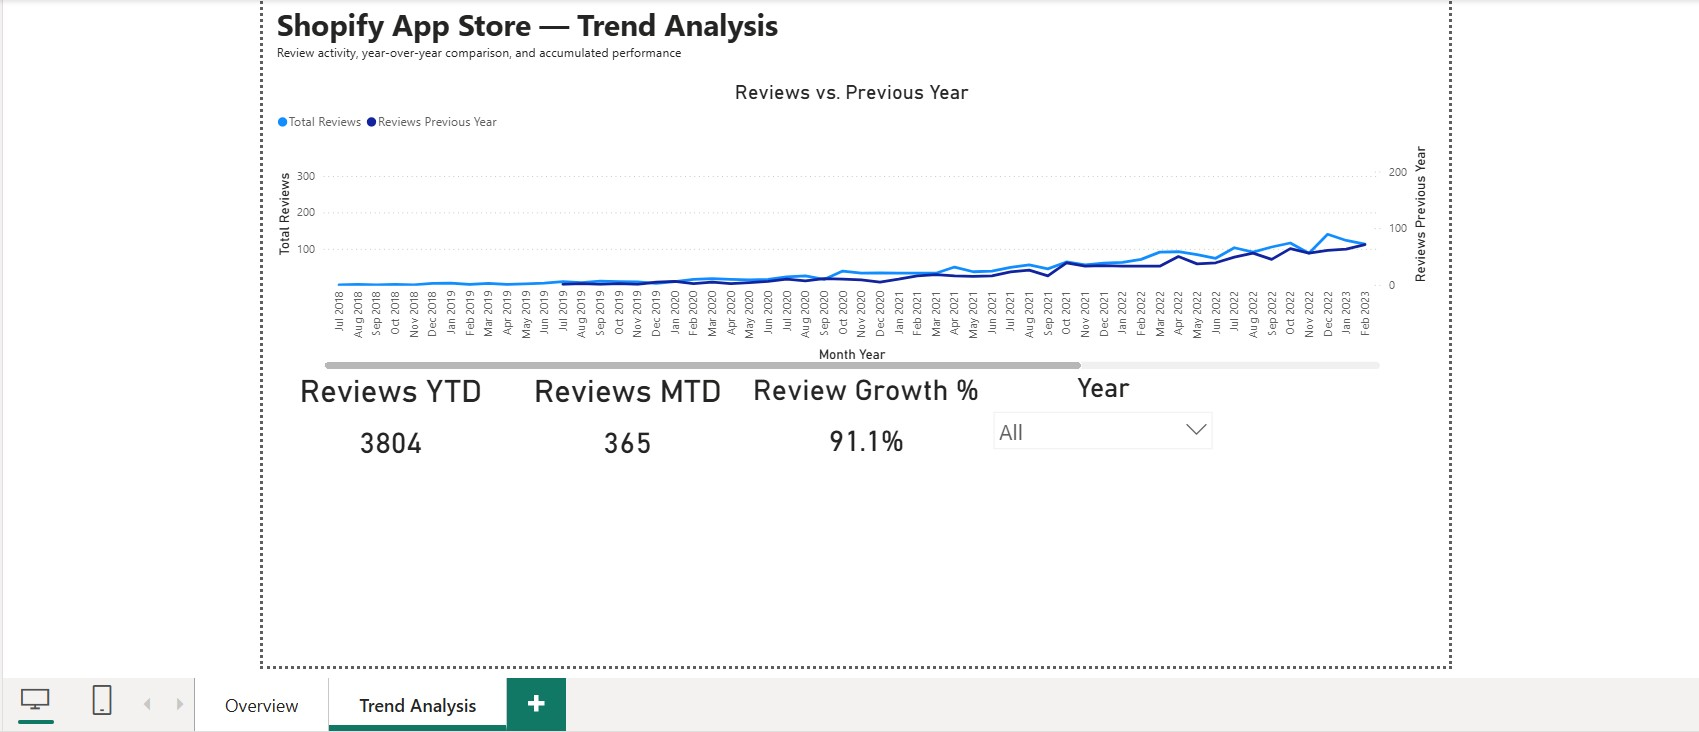

The page's visual inventory and layout, read from the dashboard file:
{"tool":"powerbi","page":{"name":"Trend Analysis","canvas":[1280,720],"ordinal":1},"visuals":[{"type":"textbox","box":[10.4,0,720.7,87],"z":0},{"type":"lineChart","title":"Reviews vs. Previous Year","fields":{"Category":["dim_date.Month Year"],"Y":["apps.Total Reviews"],"Y2":["apps.Reviews Previous Year"]},"box":[10.4,87,1251.6,316.8],"z":1000},{"type":"card","title":"Reviews YTD","fields":{"Values":["apps.Reviews YTD"]},"box":[10.4,403.8,255.9,113.1],"z":1001},{"type":"card","title":"Reviews MTD","fields":{"Values":["apps.Reviews MTD"]},"box":[266.3,403.8,255.9,113.1],"z":1002},{"type":"card","title":"Review Growth %","fields":{"Values":["apps.Review Growth %"]},"box":[522.2,403.8,255.9,113.1],"z":1003},{"type":"slicer","title":"Year","fields":{"Values":["dim_date.Year"]},"box":[778.1,403.8,255.9,149.7],"z":1004}]}

Visuals, with their boxes on the page's 1280x720 design canvas (x1, y1, x2, y2). These are canvas units, not pixel positions in the 1699x732 screenshot, which may show the page scaled, cropped or inside an application window:
textbox: left=10, top=0, right=731, bottom=87
"Reviews vs. Previous Year" lineChart: left=10, top=87, right=1262, bottom=404
"Reviews YTD" card: left=10, top=404, right=266, bottom=517
"Reviews MTD" card: left=266, top=404, right=522, bottom=517
"Review Growth %" card: left=522, top=404, right=778, bottom=517
"Year" slicer: left=778, top=404, right=1034, bottom=554
